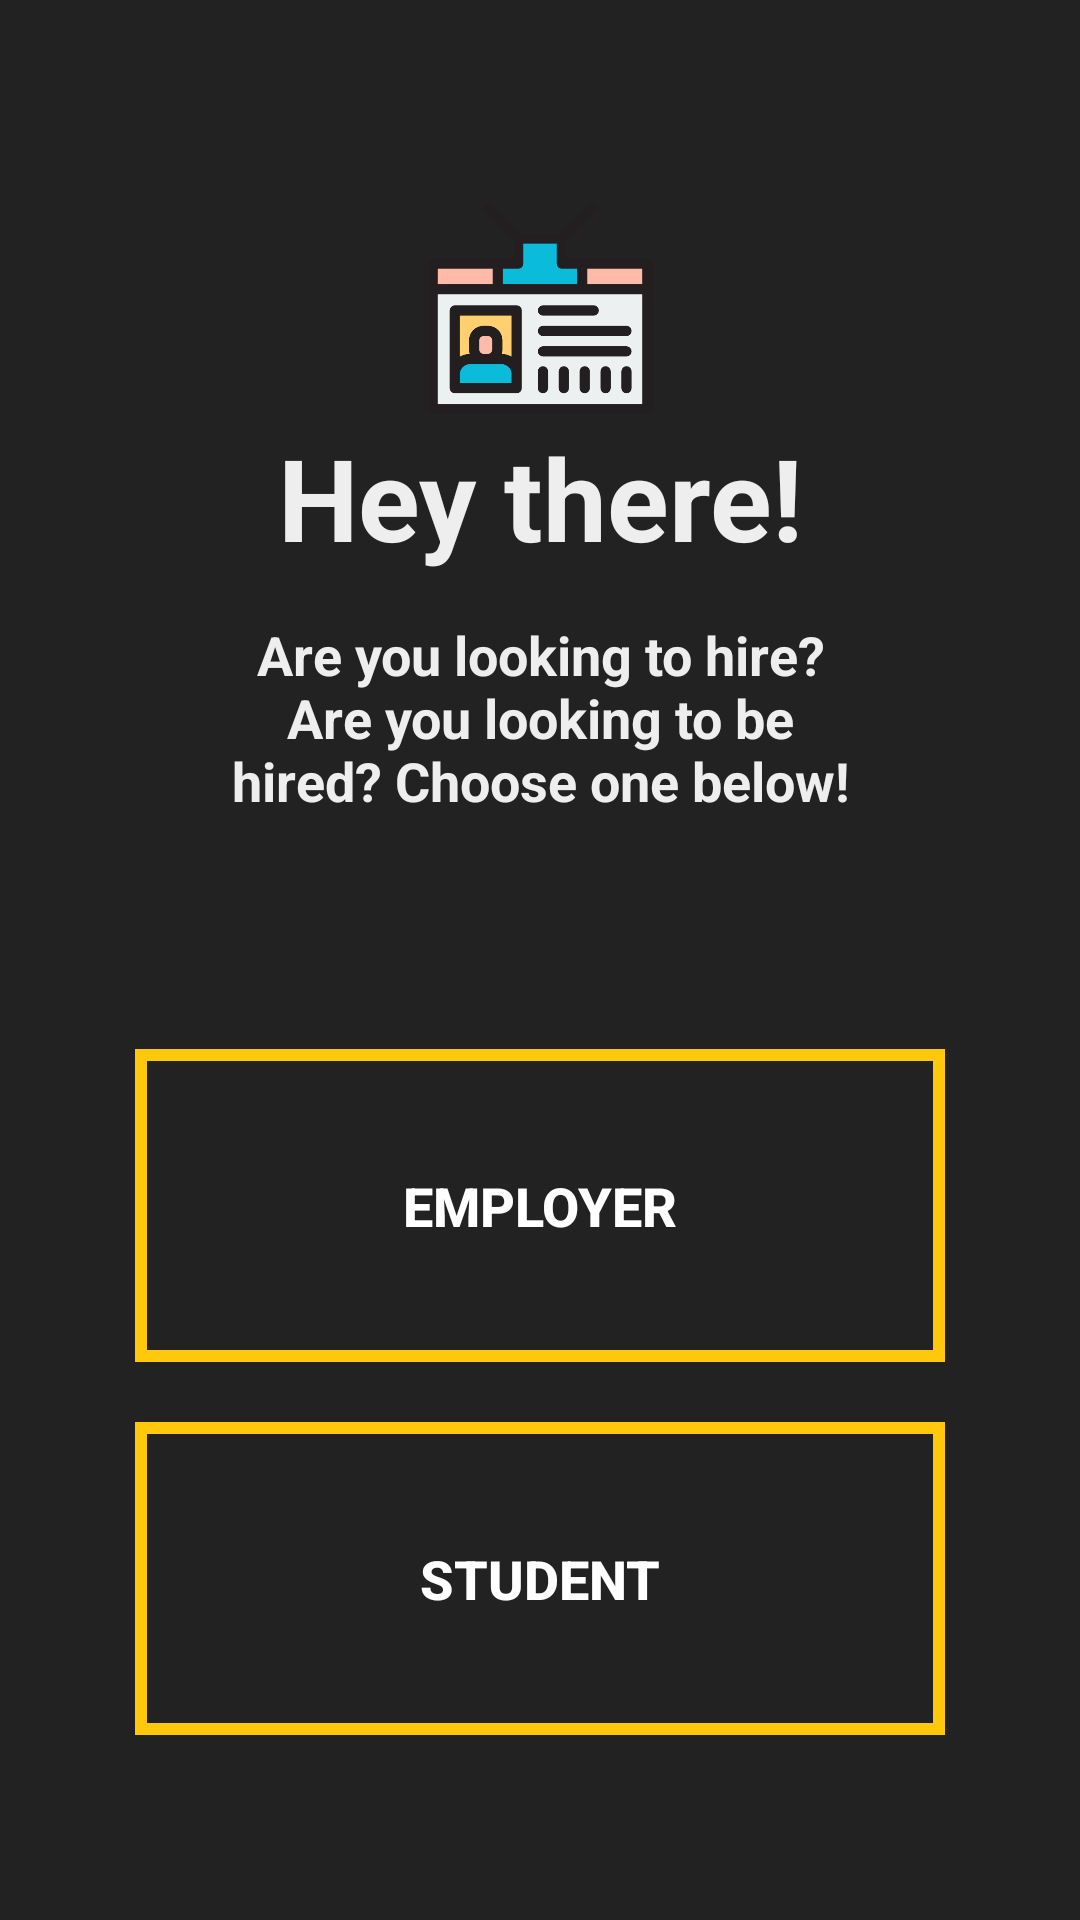

Icons on this 1080x1920 Android screen, each with the point to tap as point (x, y):
id card: point (540, 323)
